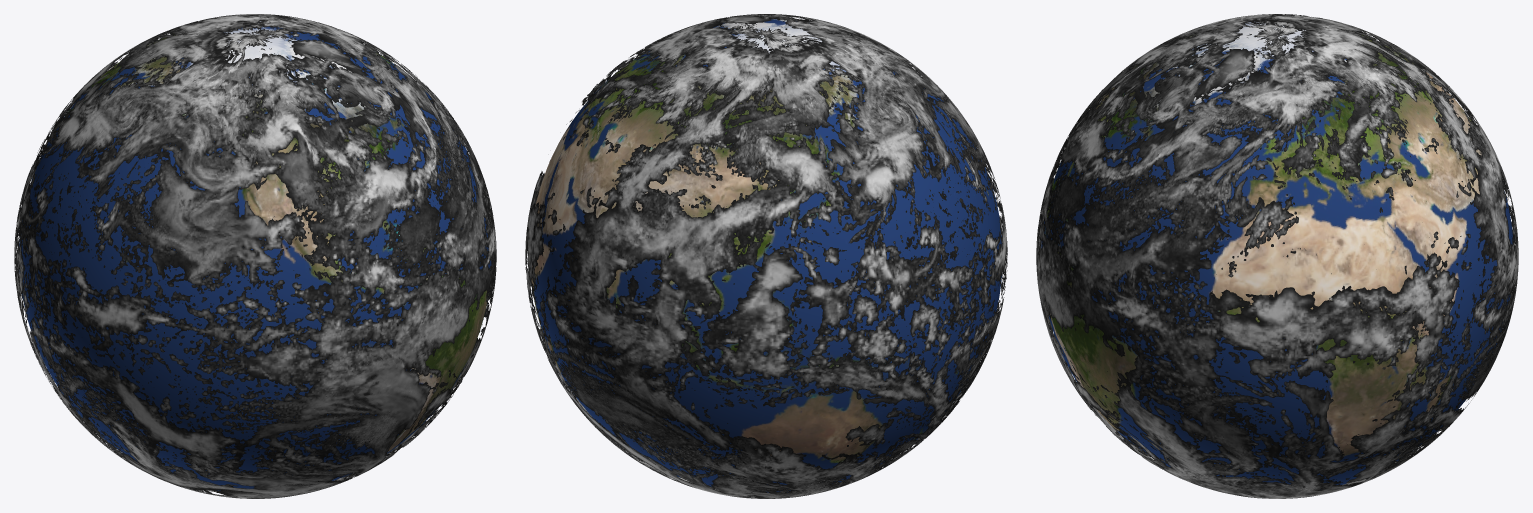
3 views of the same model, side by side, from view 1: azimuth 30°, elevation 25°; view 2: azimuth 150°, elevation 25°; view 3: azimuth 270°, elevation 25° (orthographic).
Visible parts, largest first — view 1: Sphere_0; view 2: Sphere_0; view 3: Sphere_0.
Boxes of the visible parts, bbox=[...] form: Sphere_0: bbox=[14, 14, 496, 498]; Sphere_0: bbox=[525, 14, 1007, 498]; Sphere_0: bbox=[1036, 14, 1518, 498].
Size of the model in its own units: 7.43 by 7.51 by 7.43.
2 materials, 2 textured.
